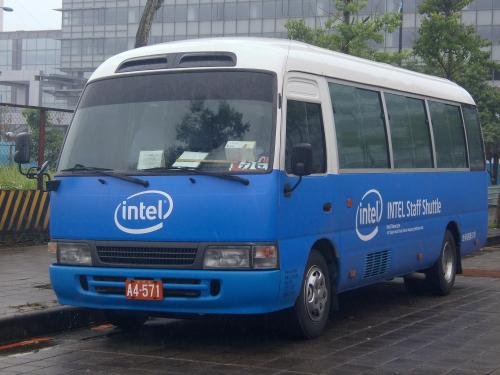bus: (67, 41, 443, 293)
